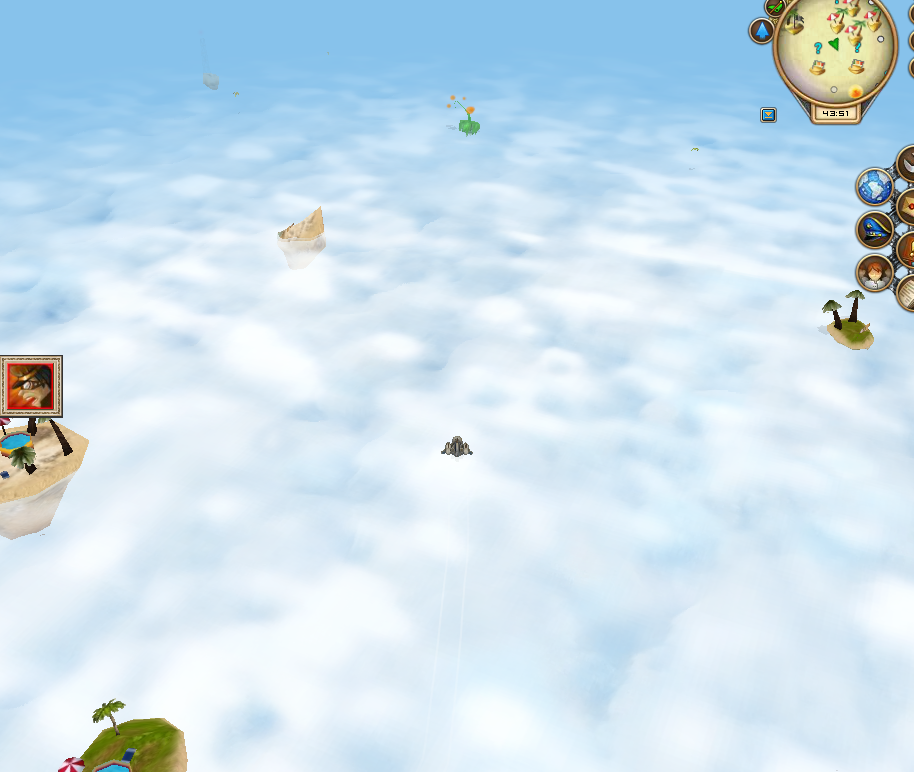dandelion-full: (443, 95, 486, 136)
